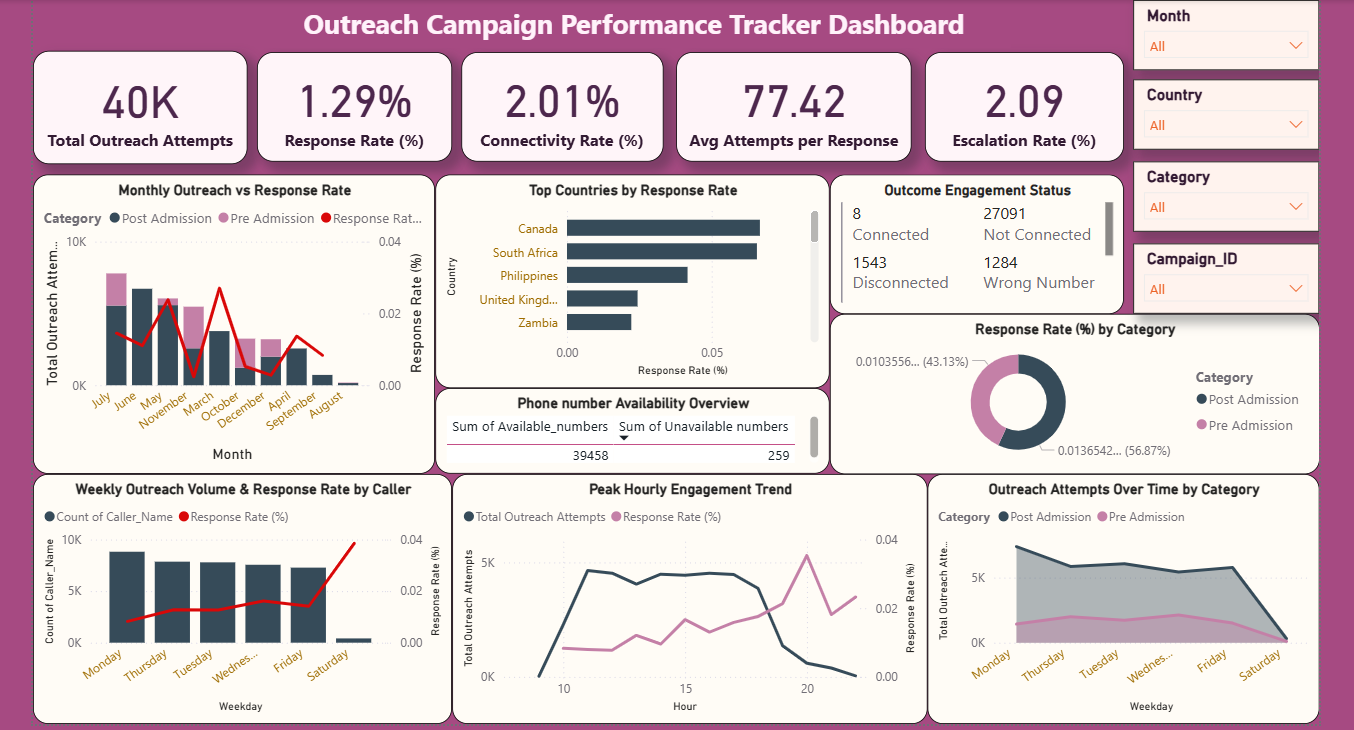

The dashboard page shown, as its layout file describes it:
{"tool":"powerbi","page":{"name":"Page 1","canvas":[1280,720],"ordinal":0},"visuals":[{"type":"card","fields":{"Values":["Cleaned_Outreach_Campaign_Applicants_FinalData.Total Outreach Attempts"]},"box":[0,50.5,213.8,112.8],"z":0},{"type":"card","fields":{"Values":["Cleaned_Outreach_Campaign_Applicants_FinalData.Response Rate (%)"]},"box":[222.9,51.8,194.4,108.9],"z":1000},{"type":"card","fields":{"Values":["Cleaned_Outreach_Campaign_Applicants_FinalData.Connectivity Rate"]},"box":[426.4,51.8,200.9,108.9],"z":2000},{"type":"card","fields":{"Values":["Cleaned_Outreach_Campaign_Applicants_FinalData.Avg Attempts per Response"]},"box":[640.3,51.8,234.6,108.9],"z":3000},{"type":"card","fields":{"Values":["Cleaned_Outreach_Campaign_Applicants_FinalData.Escalation Rate (%)"]},"box":[887.8,51.8,198.3,108.9],"z":4000},{"type":"lineStackedColumnComboChart","title":"Monthly Outreach vs Response Rate","fields":{"Category":["Cleaned_Outreach_Campaign_Applicants_FinalData.Month"],"Y":["Cleaned_Outreach_Campaign_Applicants_FinalData.Total Outreach Attempts"],"Y2":["Cleaned_Outreach_Campaign_Applicants_FinalData.Response Rate (%)"],"Series":["Cleaned_Outreach_Campaign_Applicants_FinalData.Category"]},"box":[0,173.7,400.5,298.1],"z":5000},{"type":"donutChart","fields":{"Category":["Cleaned_Outreach_Campaign_Applicants_FinalData.Category"],"Y":["Cleaned_Outreach_Campaign_Applicants_FinalData.Response Rate (%)"]},"box":[793.2,312.3,487.3,159.4],"z":6000},{"type":"multiRowCard","title":"Outcome Engagement Status","fields":{"Values":["Cleaned_Outreach_Campaign_Applicants_FinalData.Connected","Cleaned_Outreach_Campaign_Applicants_FinalData.Not Connected","Cleaned_Outreach_Campaign_Applicants_FinalData.Disconnected","Cleaned_Outreach_Campaign_Applicants_FinalData.Wrong Number","Cleaned_Outreach_Campaign_Applicants_FinalData.Already Enrolled","Cleaned_Outreach_Campaign_Applicants_FinalData.Reschedule","Cleaned_Outreach_Campaign_Applicants_FinalData.Not Interested","Cleaned_Outreach_Campaign_Applicants_FinalData.Completed Application"]},"box":[793.2,173.7,292.9,138.7],"z":7000},{"type":"clusteredBarChart","title":"Top Countries by Response Rate","fields":{"Category":["Cleaned_Outreach_Campaign_Applicants_FinalData.Country"],"Y":["Cleaned_Outreach_Campaign_Applicants_FinalData.Response Rate (%)"]},"box":[400.5,173.7,392.7,212.6],"z":8000},{"type":"areaChart","title":"Outreach Attempts Over Time by Category","fields":{"Category":["Cleaned_Outreach_Campaign_Applicants_FinalData.Weekday"],"Y":["Cleaned_Outreach_Campaign_Applicants_FinalData.Total Outreach Attempts"],"Series":["Cleaned_Outreach_Campaign_Applicants_FinalData.Category"]},"box":[890.4,471.8,390.1,248.8],"z":9000},{"type":"lineClusteredColumnComboChart","title":"Weekly Outreach Volume & Response Rate by Caller","fields":{"Category":["Cleaned_Outreach_Campaign_Applicants_FinalData.Weekday"],"Y2":["Cleaned_Outreach_Campaign_Applicants_FinalData.Response Rate (%)"],"Y":["CountNonNull(Cleaned_Outreach_Campaign_Applicants_FinalData.Caller_Name)"]},"box":[0,471.8,417.3,248.8],"z":10000},{"type":"lineChart","title":"Peak Hourly Engagement Trend","fields":{"Category":["Cleaned_Outreach_Campaign_Applicants_FinalData.Hour"],"Y":["Cleaned_Outreach_Campaign_Applicants_FinalData.Total Outreach Attempts"],"Y2":["Cleaned_Outreach_Campaign_Applicants_FinalData.Response Rate (%)"]},"box":[417.3,471.8,473.1,248.8],"z":11000},{"type":"slicer","fields":{"Values":["Cleaned_Outreach_Campaign_Applicants_FinalData.Month"]},"box":[1095.2,0,185.3,70],"z":12000},{"type":"slicer","fields":{"Values":["Cleaned_Outreach_Campaign_Applicants_FinalData.Country"]},"box":[1095.2,79.1,185.3,70],"z":13000},{"type":"slicer","fields":{"Values":["Cleaned_Outreach_Campaign_Applicants_FinalData.Category"]},"box":[1095.2,160.7,185.3,70],"z":14000},{"type":"slicer","fields":{"Values":["Cleaned_Outreach_Campaign_Applicants_FinalData.Campaign_ID"]},"box":[1095.2,242.4,185.3,70],"z":15000},{"type":"textbox","box":[222.9,0,750.4,48],"z":16000},{"type":"tableEx","title":"Phone number Availability Overview","fields":{"Values":["Sum(Cleaned_Outreach_Campaign_Applicants_FinalData.Connected_Calls)","Sum(Cleaned_Outreach_Campaign_Applicants_FinalData.Disconnected_Calls)"]},"box":[400.5,386.2,392.7,85.5],"z":17000}]}

Visuals, with their boxes in screenshot pixels (x1, y1, x2, y2):
card - Cleaned_Outreach_Campaign_Applicants_FinalData.Total Outreach Attempts: box=[32, 50, 245, 163]
card - Cleaned_Outreach_Campaign_Applicants_FinalData.Response Rate (%): box=[255, 52, 449, 161]
card - Cleaned_Outreach_Campaign_Applicants_FinalData.Connectivity Rate: box=[458, 52, 659, 161]
card - Cleaned_Outreach_Campaign_Applicants_FinalData.Avg Attempts per Response: box=[672, 52, 906, 161]
card - Cleaned_Outreach_Campaign_Applicants_FinalData.Escalation Rate (%): box=[919, 52, 1118, 161]
"Monthly Outreach vs Response Rate" lineStackedColumnComboChart: box=[32, 174, 432, 472]
donutChart - Cleaned_Outreach_Campaign_Applicants_FinalData.Category x Cleaned_Outreach_Campaign_Applicants_FinalData.Response Rate (%): box=[825, 312, 1312, 472]
"Outcome Engagement Status" multiRowCard: box=[825, 174, 1118, 312]
"Top Countries by Response Rate" clusteredBarChart: box=[432, 174, 825, 386]
"Outreach Attempts Over Time by Category" areaChart: box=[922, 472, 1312, 720]
"Weekly Outreach Volume & Response Rate by Caller" lineClusteredColumnComboChart: box=[32, 472, 449, 720]
"Peak Hourly Engagement Trend" lineChart: box=[449, 472, 922, 720]
slicer - Cleaned_Outreach_Campaign_Applicants_FinalData.Month: box=[1127, 0, 1312, 70]
slicer - Cleaned_Outreach_Campaign_Applicants_FinalData.Country: box=[1127, 79, 1312, 149]
slicer - Cleaned_Outreach_Campaign_Applicants_FinalData.Category: box=[1127, 161, 1312, 231]
slicer - Cleaned_Outreach_Campaign_Applicants_FinalData.Campaign_ID: box=[1127, 242, 1312, 312]
textbox: box=[255, 0, 1005, 48]
"Phone number Availability Overview" tableEx: box=[432, 386, 825, 472]
